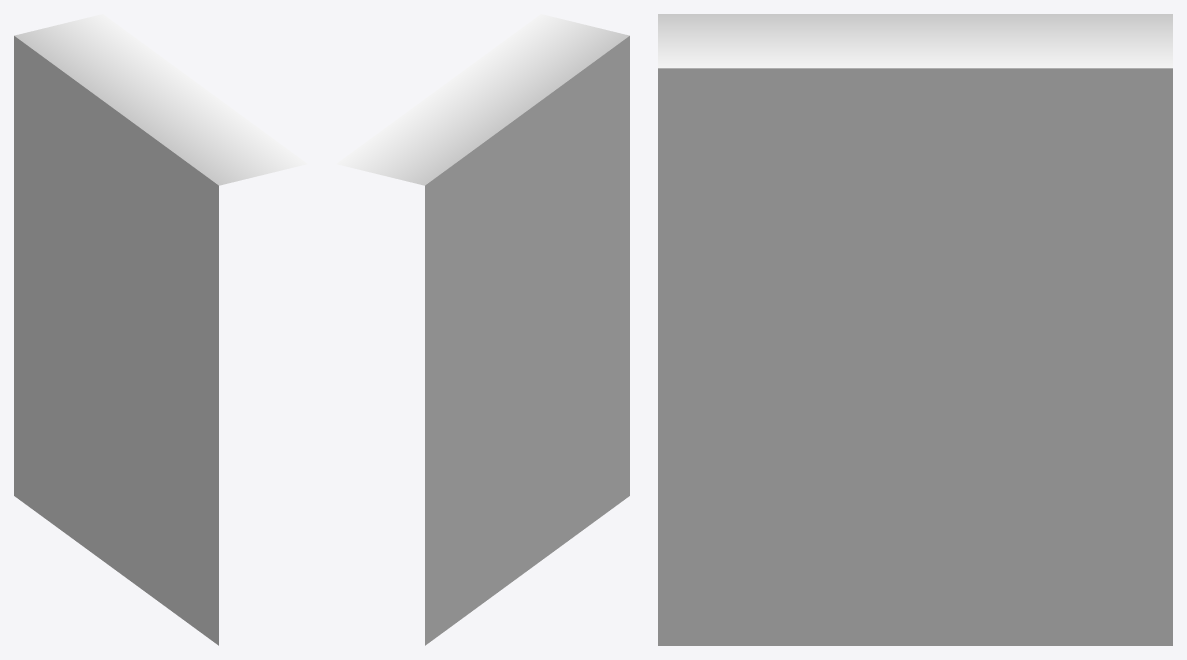
The picture shows the model from 3 angles, left to right: view 1: azimuth 30°, elevation 25°; view 2: azimuth 150°, elevation 25°; view 3: azimuth 270°, elevation 25°; orthographic projection. The views are drawn at different scales.
Size of the model in its own units: 0.25 by 1.24 by 1.
Materials: 1 (1 with a texture image).
